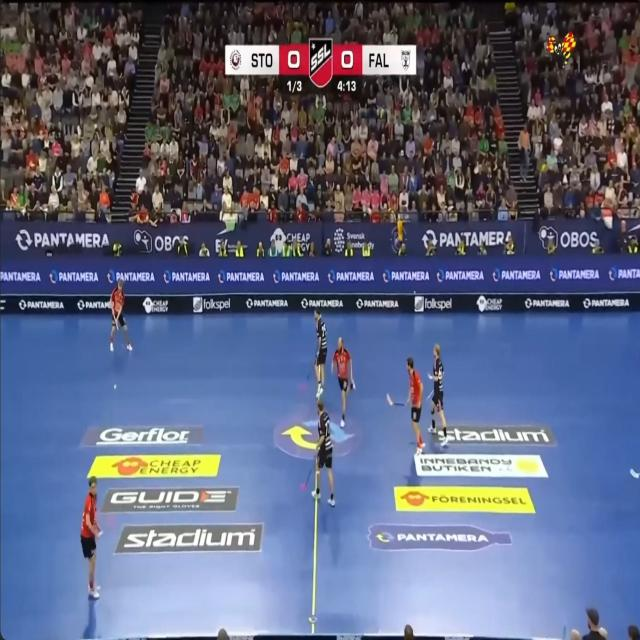Balls: (114, 384, 116, 389)
player: (80, 477, 101, 599), (312, 399, 334, 506), (332, 337, 354, 428), (429, 344, 448, 445), (406, 358, 424, 453), (110, 279, 132, 351), (314, 309, 327, 398)
